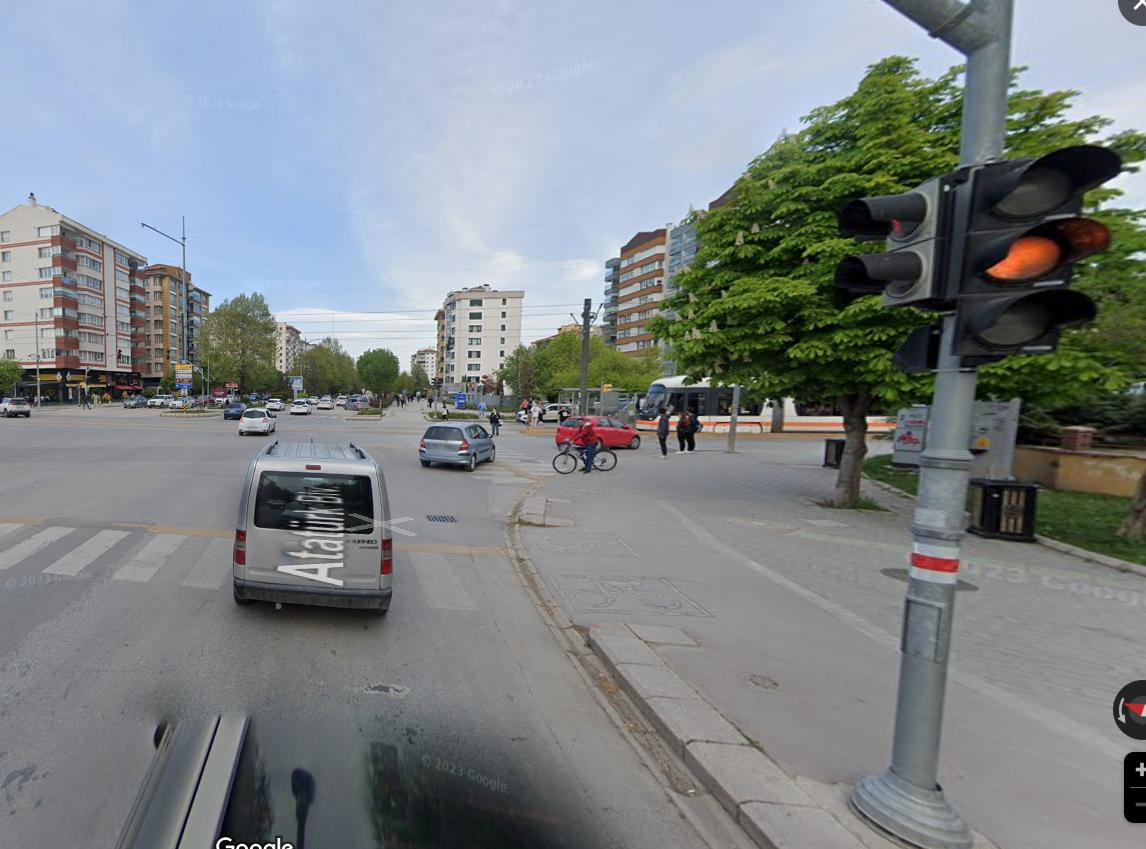yellowlight: (972, 154, 1070, 351)
